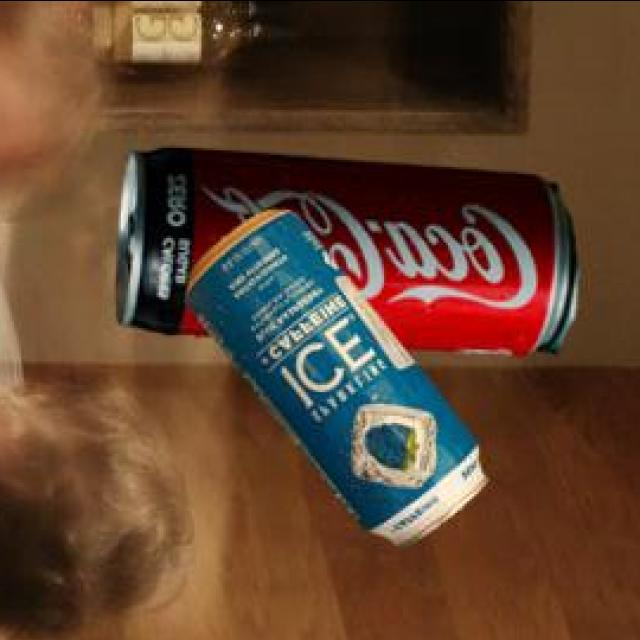logam: (188, 215, 492, 551), (120, 151, 582, 357)
